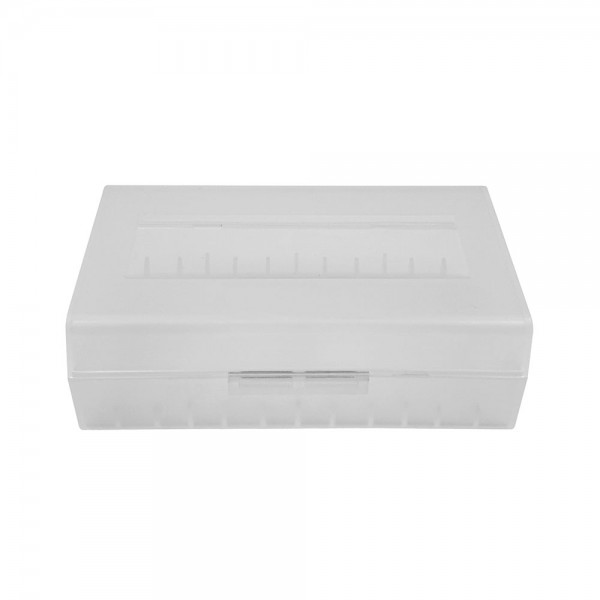PlasticBox: (59, 179, 540, 441)
